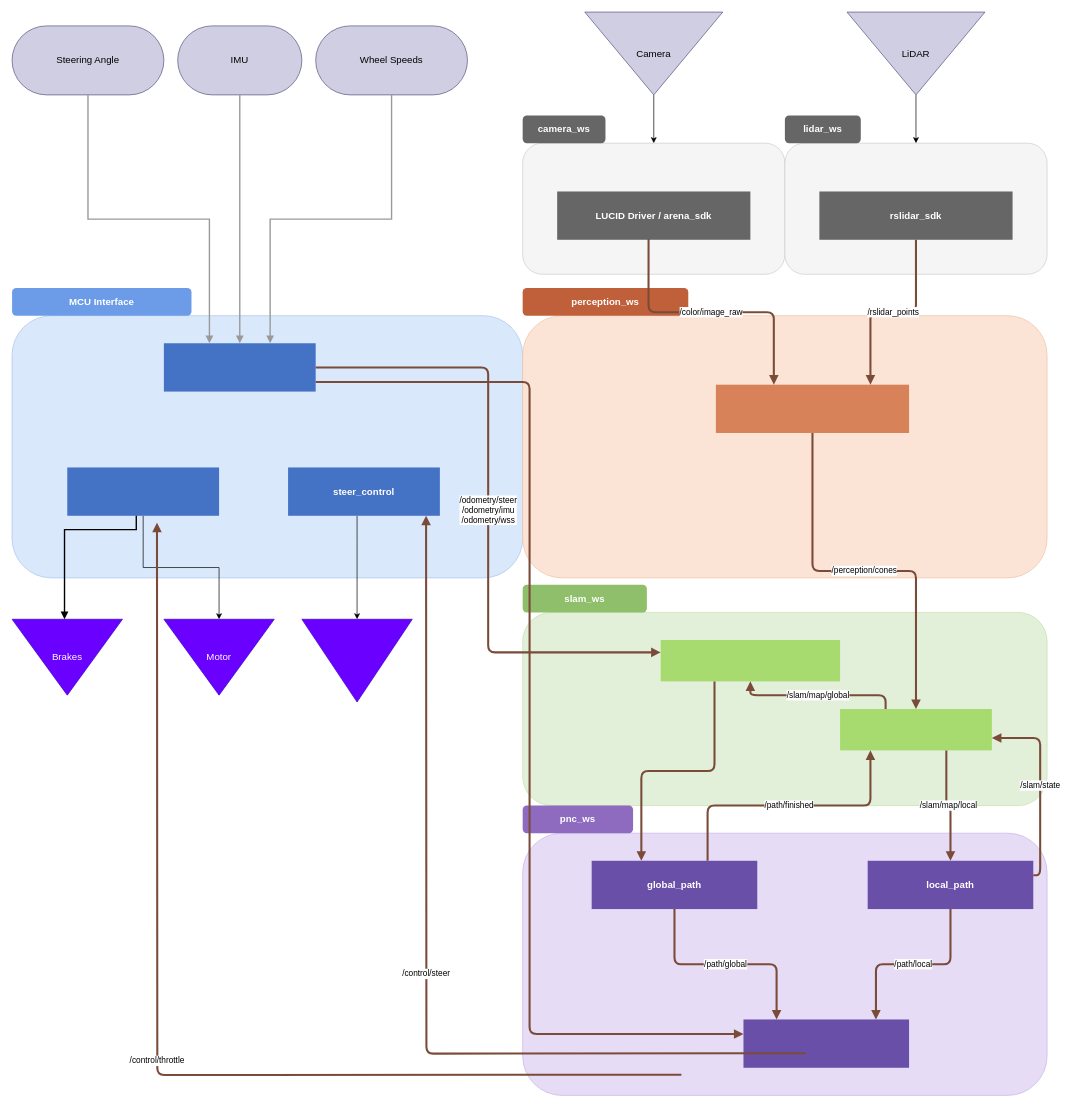
Some shapes in this 1072 by 1107 pixel diagram are drawn without their labels. The box of each missing label's shape, as (x1, y1, x2, y2) in pixels:
Initial Pose Guess: (660, 640, 840, 681)
mpc: (743, 1019, 909, 1067)
odometry: (164, 343, 315, 391)
sensor_fusion: (716, 384, 909, 433)
slam: (840, 709, 992, 750)
Steering Servo: (301, 619, 412, 702)
throttle_control: (67, 467, 219, 515)
